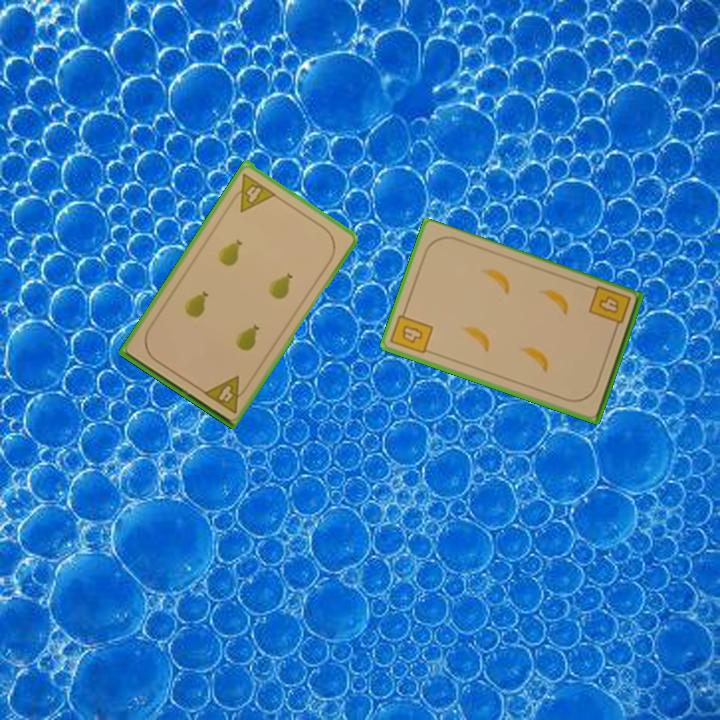4b: (585, 283, 634, 335), (388, 306, 436, 357)
4p: (226, 170, 279, 215), (200, 372, 252, 416)
